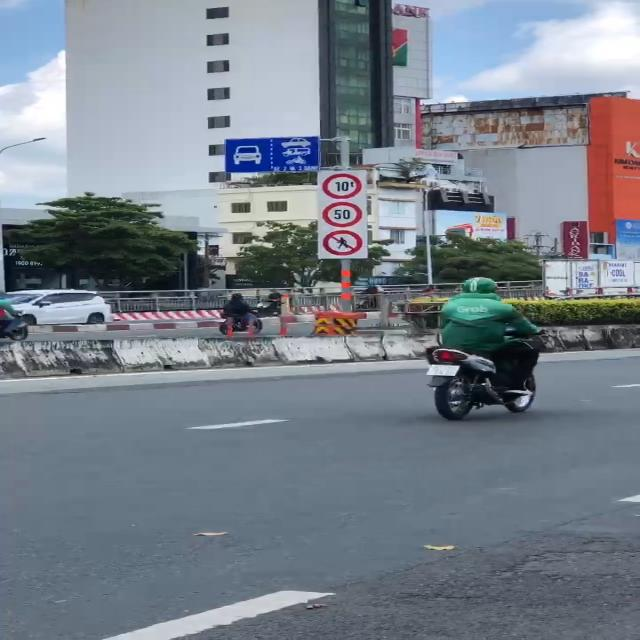Bien bao cam nguoi di bo: (320, 227, 368, 257)
Bien bao toc do toi da cho phep: (319, 199, 365, 228)
